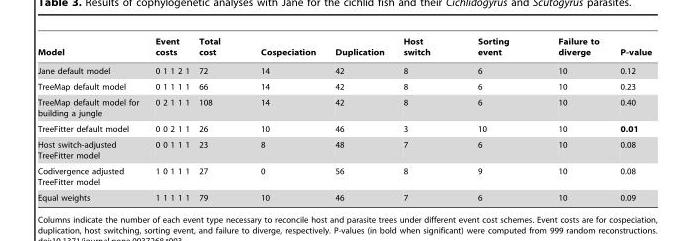table: (37, 36, 651, 201)
table column: (37, 36, 146, 201), (239, 36, 324, 201), (453, 36, 532, 201), (532, 36, 609, 201), (324, 36, 393, 201), (393, 36, 453, 201), (146, 36, 193, 201), (193, 36, 239, 201), (609, 36, 651, 201)
table column header: (37, 36, 651, 61)
table row: (37, 136, 651, 163), (37, 94, 651, 120), (37, 163, 651, 189), (37, 36, 651, 61), (37, 61, 651, 78), (37, 78, 651, 94), (37, 120, 651, 136), (37, 189, 651, 201)
